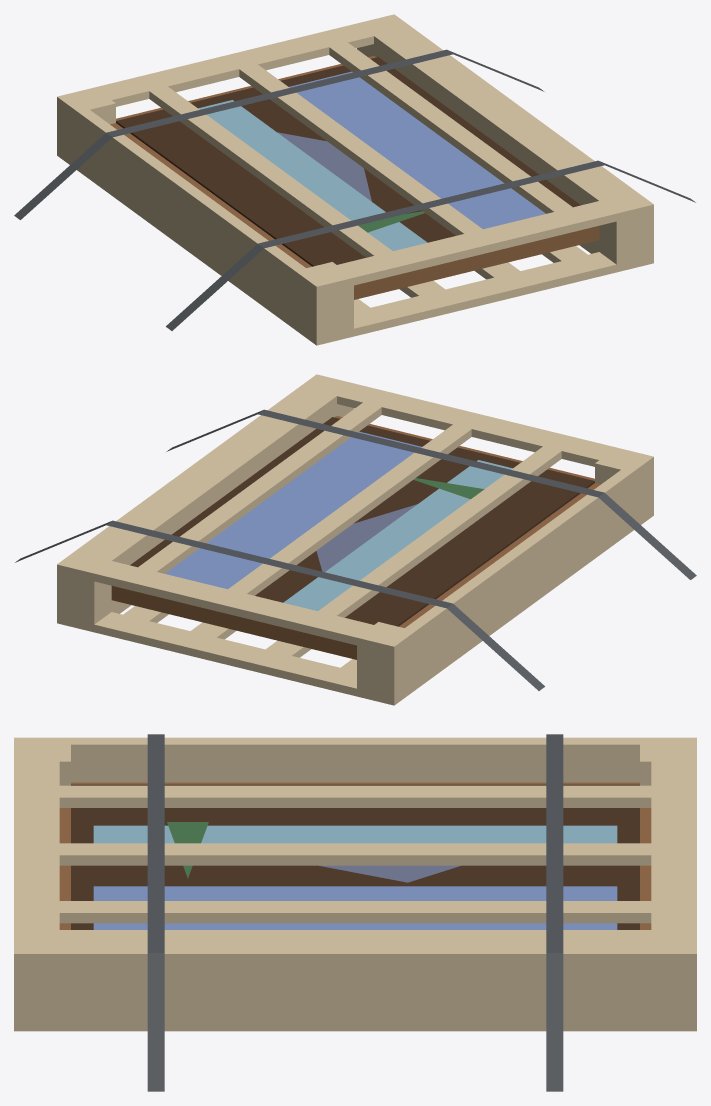
File: framed-artwork.glb
3 renders of one model, top to bottom at view 1: azimuth 30°, elevation 25°; view 2: azimuth 150°, elevation 25°; view 3: azimuth 270°, elevation 25°, orthographic. The views are drawn at different scales.
Parts seen in each view (by area): view 1: FramedArtwork; view 2: FramedArtwork; view 3: FramedArtwork.
Boxes of the visible parts, box(x1,y1,x2,y2) form: FramedArtwork: box(14, 14, 695, 345); FramedArtwork: box(15, 374, 696, 705); FramedArtwork: box(14, 734, 696, 1091).
Size of the model in its own units: 1.4 by 0.154 by 1.2.
